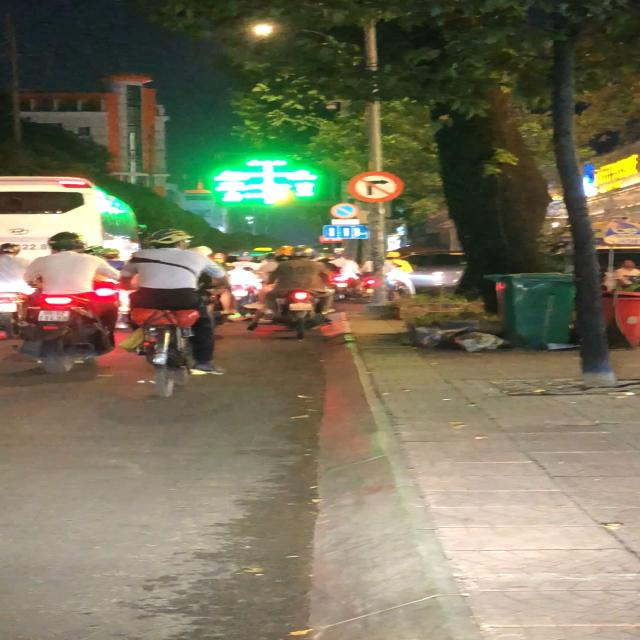Bien bao cam re phai: (345, 170, 406, 204)
